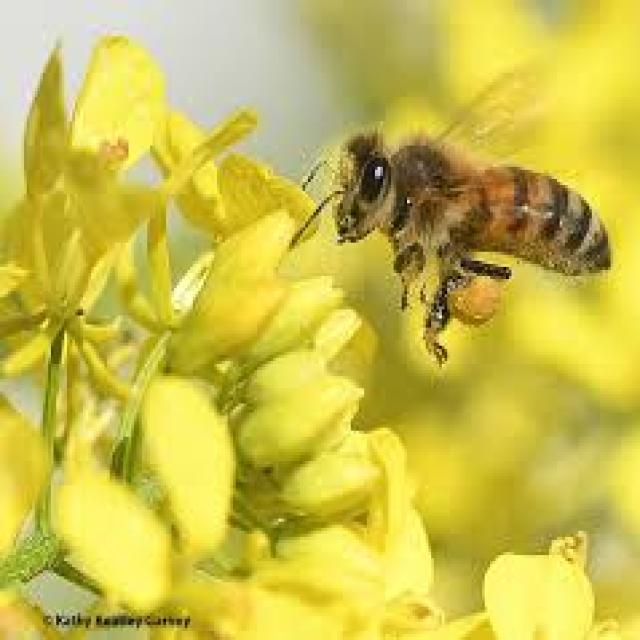Bees: (291, 76, 613, 366)
